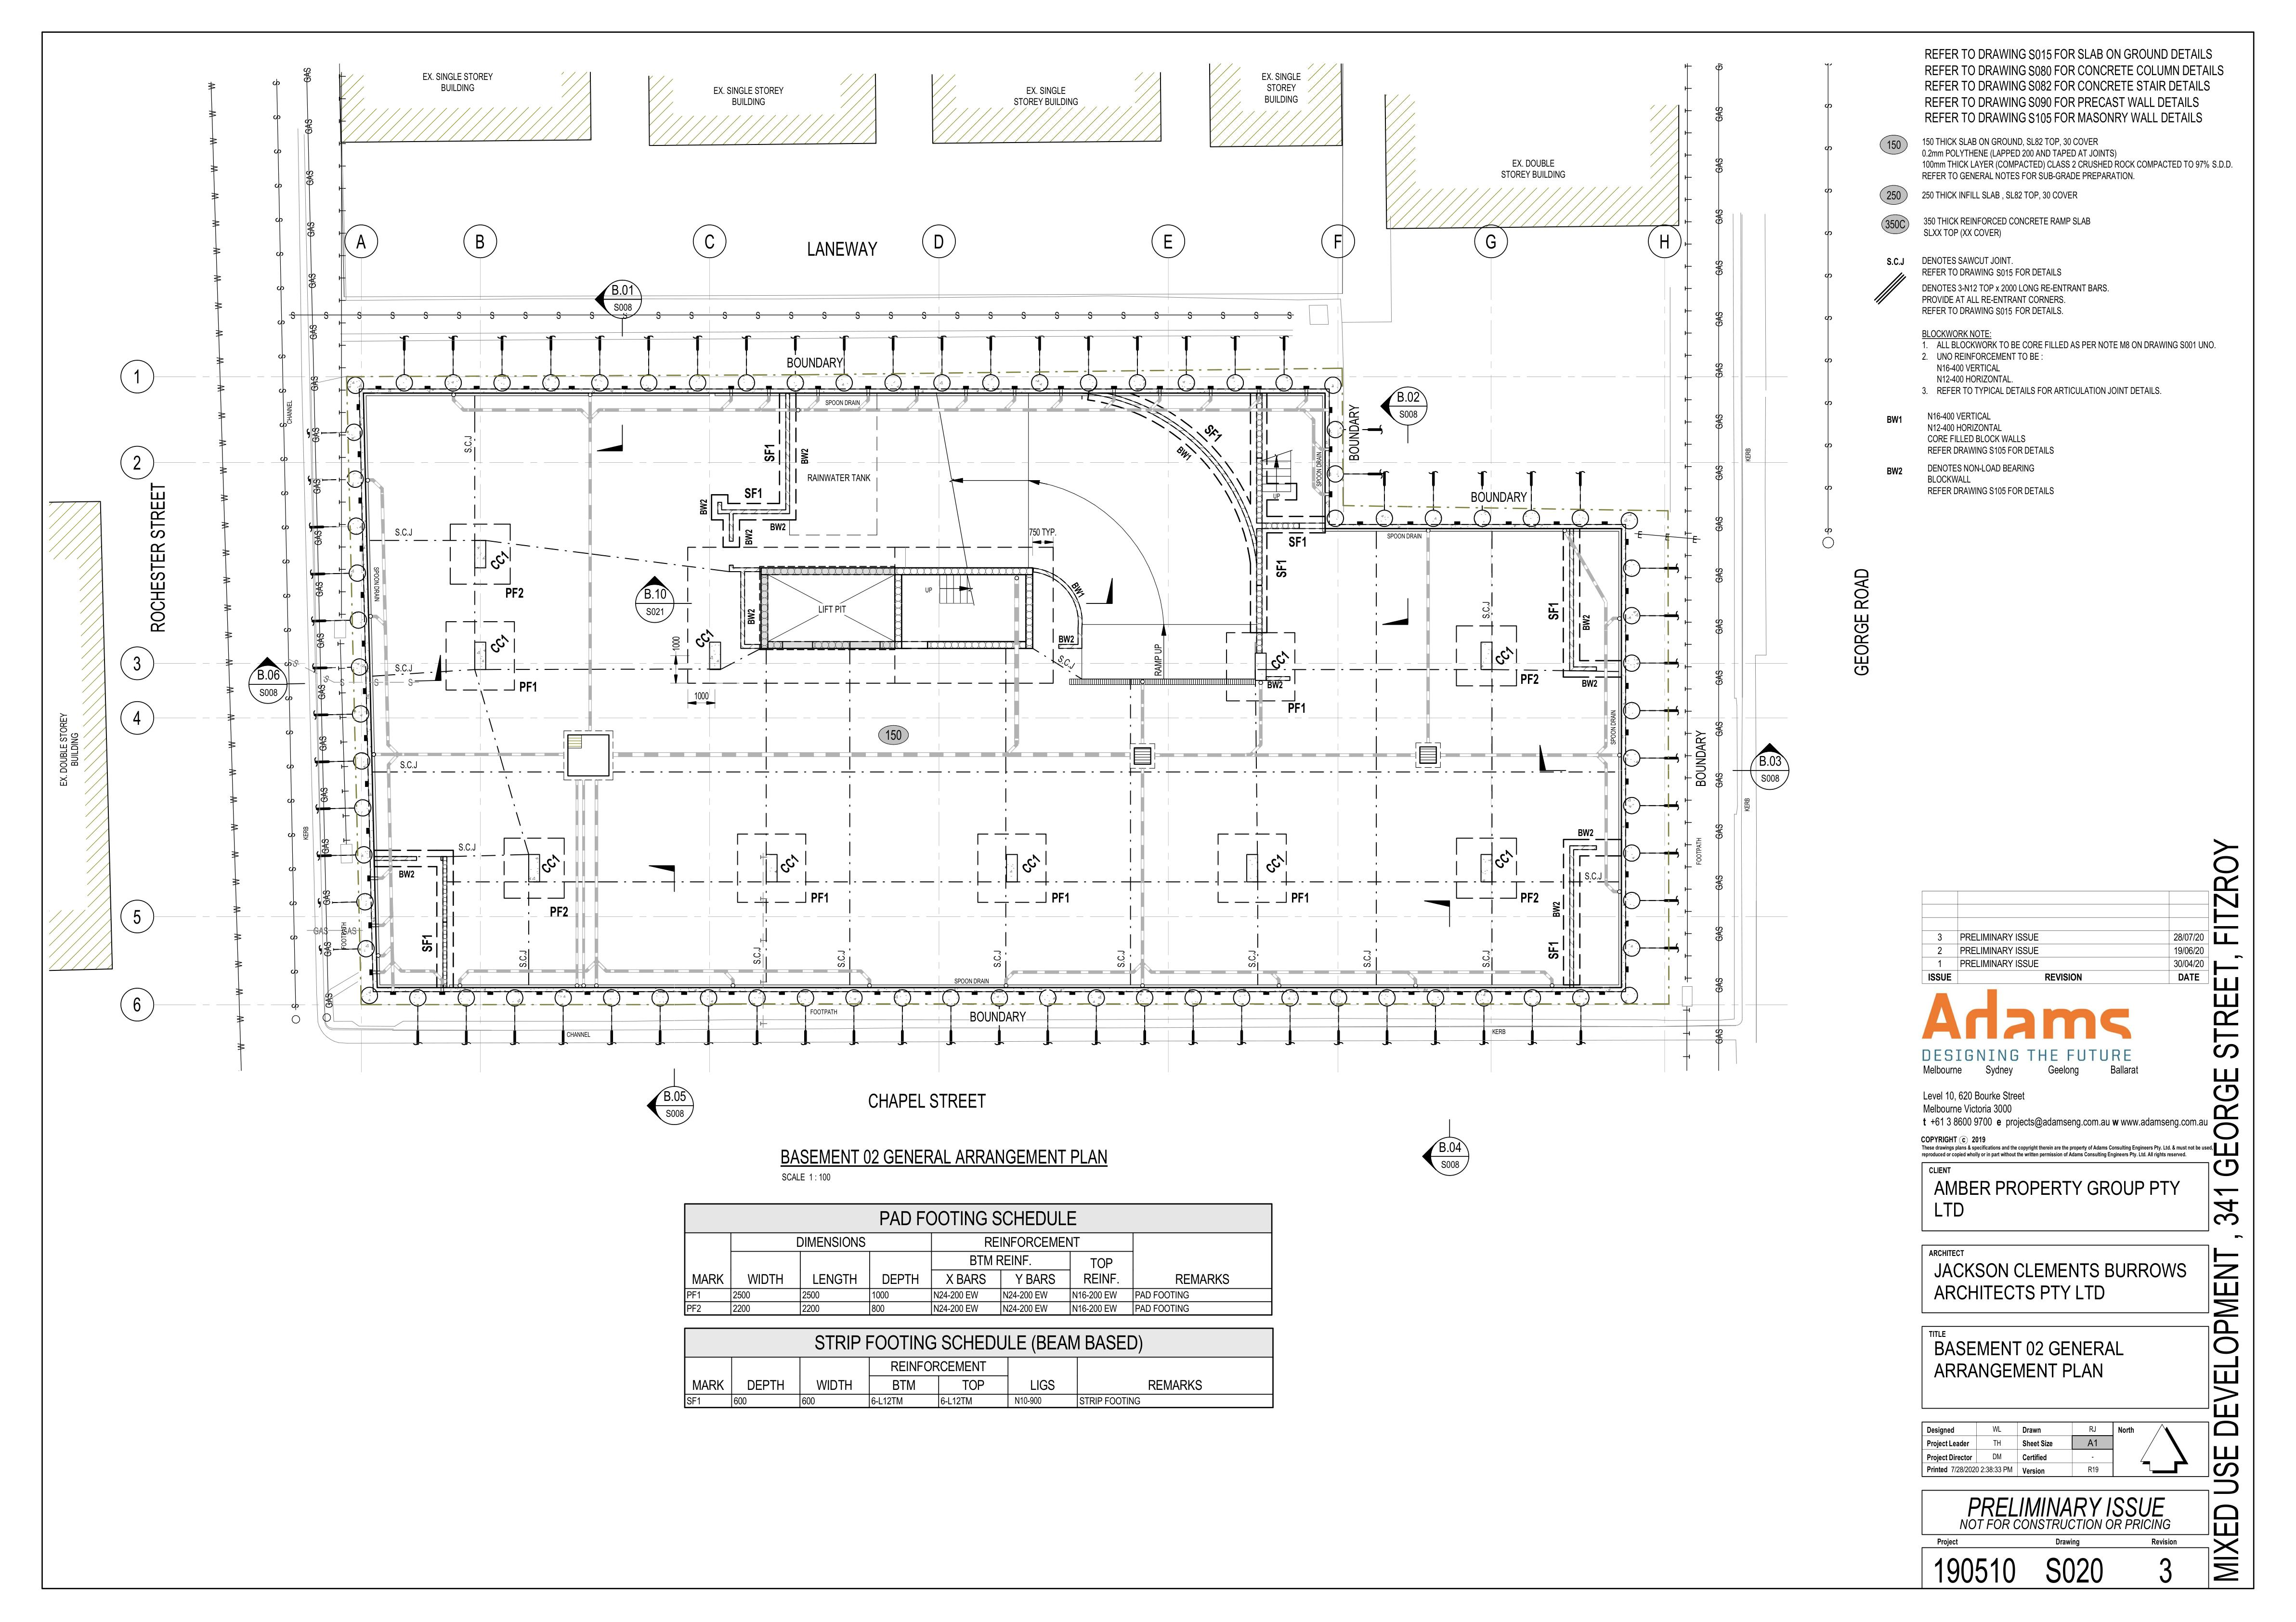BW1: (1067, 578, 1090, 602), (1173, 442, 1194, 463)
BW2: (743, 607, 769, 632), (765, 518, 793, 537), (741, 525, 760, 549), (395, 865, 423, 881), (1548, 897, 1566, 922), (1055, 630, 1078, 646), (797, 444, 813, 465), (1578, 676, 1601, 690), (1582, 611, 1596, 634), (1576, 827, 1596, 841), (695, 497, 709, 516), (1266, 679, 1288, 690)
CC1: (488, 548, 514, 572), (779, 850, 802, 874), (1022, 851, 1043, 878), (1266, 850, 1287, 876), (539, 853, 563, 874), (1267, 650, 1292, 669), (690, 627, 714, 646), (488, 634, 509, 655), (1494, 848, 1513, 869), (1496, 644, 1515, 665)
PF1: (516, 676, 542, 699), (1288, 886, 1318, 906), (1283, 699, 1311, 716), (1050, 888, 1073, 908), (809, 892, 834, 906)
PF2: (1518, 671, 1545, 690), (1518, 886, 1541, 908), (504, 583, 528, 600), (548, 902, 570, 918)
SF1: (1201, 421, 1229, 446), (758, 437, 779, 465), (1545, 597, 1566, 623), (418, 929, 437, 957), (741, 481, 765, 502), (1271, 555, 1290, 581), (1546, 937, 1564, 962), (1287, 534, 1311, 549)
